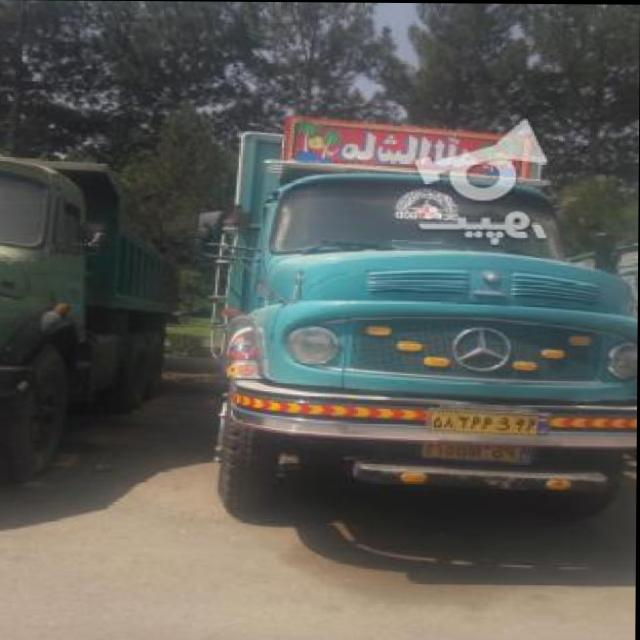licence: (431, 406, 556, 432)
